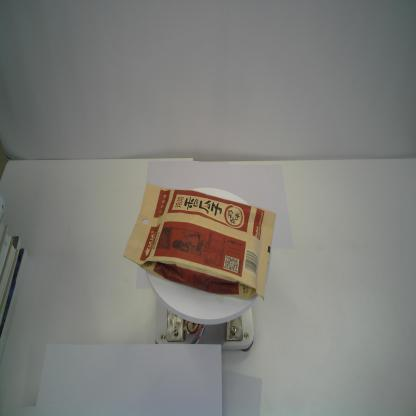Dried Food: (122, 182, 277, 303)
